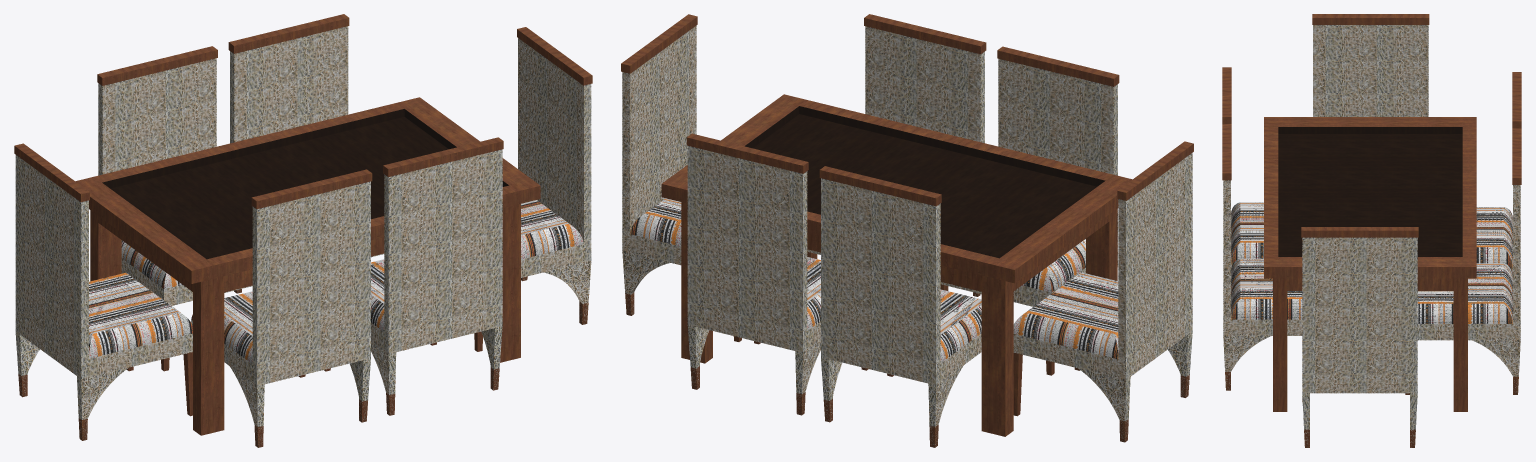
The model's file is dining furniture 5.dae.
The picture shows the model from 3 angles, left to right: view 1: azimuth 30°, elevation 25°; view 2: azimuth 150°, elevation 25°; view 3: azimuth 270°, elevation 25°; orthographic projection. The views are drawn at different scales.
Parts seen in each view (by area): view 1: group_0 (×3), group_32 (×2), group_14 (×2), group_1, group_8 (×2), group_26 (×2), group_2 (×2), group_20 (×2), group_13, group_31, group_37, group_12 (+8 smaller); view 2: group_0 (×3), group_2 (×2), group_20 (×2), group_1, group_8 (×2), group_32 (×2), group_26 (×2), group_14 (×2), group_13, group_7, group_31, group_37 (+9 smaller); view 3: group_0 (×3), group_1, group_26 (×2), group_8 (×2), group_25, group_20 (×2), group_19, group_14 (×2), group_7, group_37, group_23, group_17 (+2 smaller).
Part boxes in pixels (x1,y1,x2,y2): group_0 (×3): (75,97,540,435); group_32 (×2): (191,169,372,385); group_14 (×2): (371,137,503,353); group_1: (102,109,508,259); group_8 (×2): (14,143,192,379); group_26 (×2): (517,27,592,277); group_2 (×2): (97,46,252,305); group_20 (×2): (228,14,384,257); group_13: (89,272,192,358); group_31: (521,200,583,259); group_37: (191,291,252,363); group_12: (77,367,128,419); group_0 (×3): (661,94,1132,436); group_2 (×2): (819,166,981,385); group_20 (×2): (686,133,820,352); group_1: (745,106,1105,258); group_8 (×2): (1013,141,1193,379); group_32 (×2): (940,46,1119,306); group_26 (×2): (621,14,697,265); group_14 (×2): (807,14,986,254); group_13: (1013,272,1118,359); group_7: (940,289,981,362); group_31: (630,198,681,246); group_37: (1022,239,1085,292); group_0 (×3): (1264,117,1476,411); group_1: (1278,127,1462,256); group_26 (×2): (1301,227,1418,393); group_8 (×2): (1312,14,1429,116); group_25: (1417,263,1512,323); group_20 (×2): (1417,128,1521,340); group_19: (1231,258,1302,319); group_14 (×2): (1222,124,1302,335); group_7: (1476,207,1512,267); group_37: (1231,202,1263,263); group_23: (1472,340,1520,376); group_17: (1223,336,1270,371).
Bounding box in the file's own units: 78.66 × 45.86 × 37.01.
Materials: 9 (7 with a texture image).
